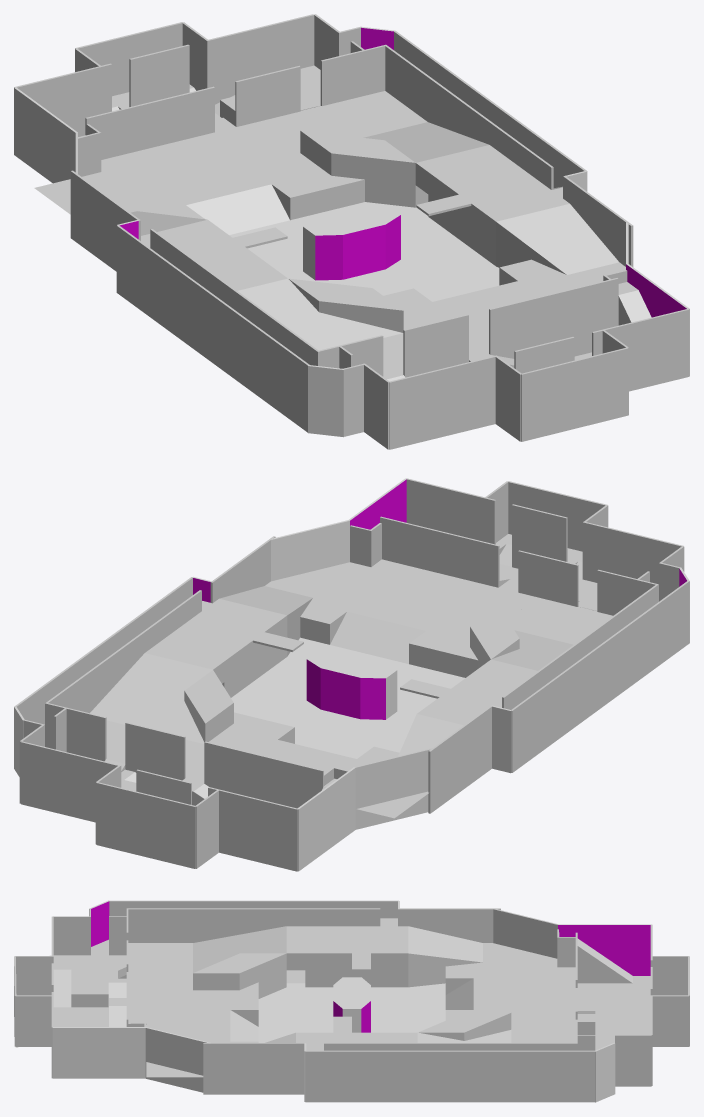
3 renders of one model, top to bottom at view 1: azimuth 30°, elevation 25°; view 2: azimuth 150°, elevation 25°; view 3: azimuth 270°, elevation 25°, orthographic. The views are drawn at different scales.
Visible parts, largest first — view 1: Cube.034, Cube.010, Cube.040, Cube.035, Plane.004, Cube.065, Cube.057, Cube.058, Cube.059, Cube.070, Cube.032, Cube.012 (+26 smaller); view 2: Cube.034, Cube.059, Cube.040, Cube.035, Plane.004, Cube.002, Cube.010, Cube.070, Cube.012, Cube.058, Cube.021, Cube.011 (+23 smaller); view 3: Cube.035, Cube.029, Cube.010, Plane.004, Cube.059, Cube.038, Cube.033, Cube.034, Cube.063, Cube.007, Plane, Cube.006 (+21 smaller).
Part boxes in pixels (box(x1,y1,x2,y2)): Cube.034: box(258, 91, 618, 274); Cube.010: box(34, 122, 364, 234); Cube.040: box(116, 225, 309, 432); Cube.035: box(131, 211, 403, 379); Plane.004: box(229, 202, 499, 301); Cube.065: box(521, 348, 628, 441); Cube.057: box(389, 355, 496, 449); Cube.058: box(489, 278, 618, 358); Cube.059: box(383, 259, 625, 359); Cube.070: box(303, 205, 400, 280); Cube.032: box(385, 45, 553, 189); Cube.012: box(206, 14, 314, 104); Cube.034: box(90, 586, 312, 763); Cube.059: box(265, 559, 537, 677); Cube.040: box(511, 581, 689, 772); Cube.035: box(398, 597, 612, 756); Plane.004: box(231, 637, 465, 758); Cube.002: box(96, 782, 195, 868); Cube.010: box(185, 712, 428, 818); Cube.070: box(306, 650, 397, 719); Cube.012: box(21, 741, 121, 822); Cube.058: box(380, 516, 499, 587); Cube.021: box(208, 787, 297, 871); Cube.011: box(204, 741, 323, 808); Cube.035: box(128, 925, 482, 998); Cube.029: box(305, 1050, 595, 1102); Cube.010: box(445, 943, 575, 1029); Plane.004: box(258, 983, 445, 1042); Cube.059: box(128, 982, 258, 1077); Cube.038: box(128, 908, 380, 942); Cube.033: box(203, 1043, 306, 1094); Cube.034: box(265, 1012, 575, 1050); Cube.063: box(52, 1027, 145, 1078); Cube.007: box(53, 955, 126, 1007); Plane: box(577, 976, 650, 1034); Cube.006: box(558, 924, 651, 975).
Bounding box in the file's own units: 38.26 × 6 × 72.23.
